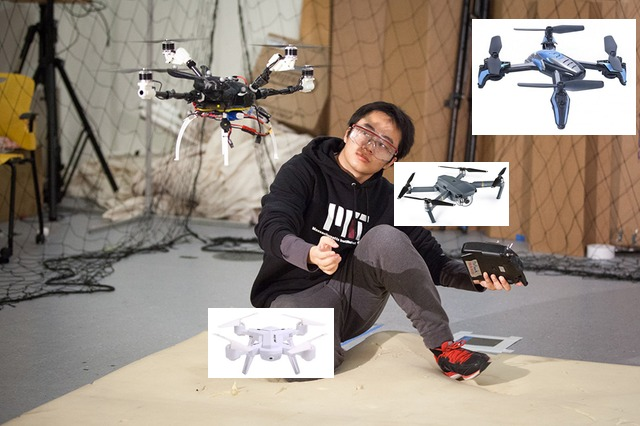drone: (127, 40, 319, 164), (472, 19, 636, 135), (208, 308, 334, 378), (394, 162, 509, 226)
